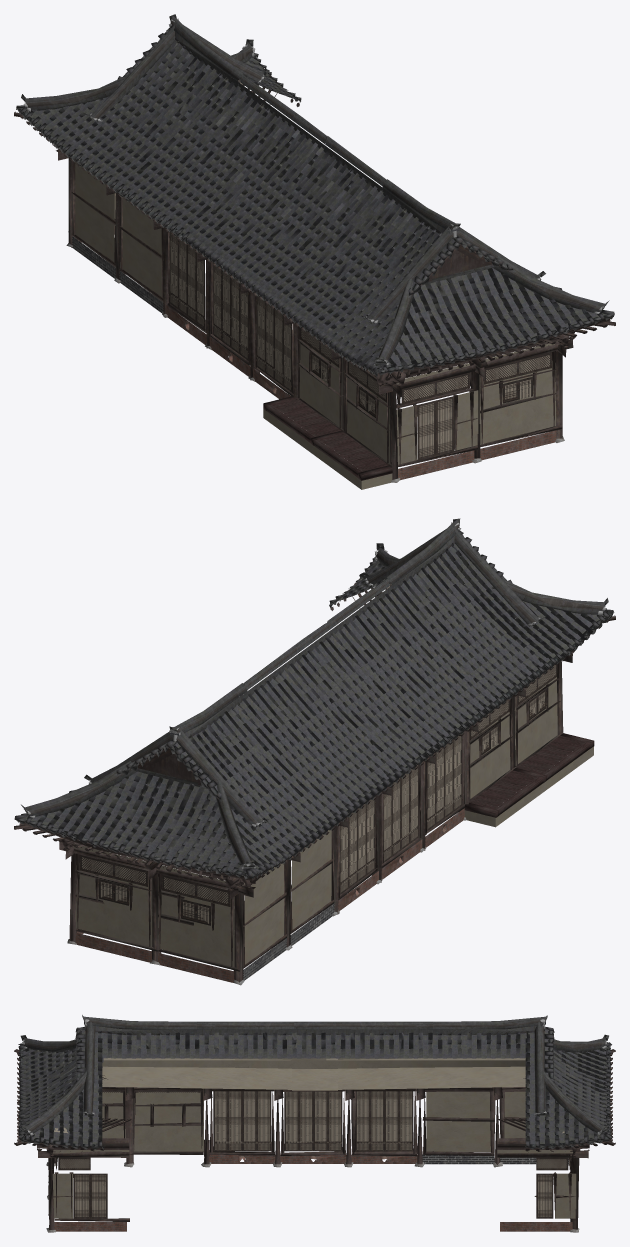
File: TruongHocLow2.fbx
The picture shows the model from 3 angles, top to bottom: view 1: azimuth 30°, elevation 25°; view 2: azimuth 150°, elevation 25°; view 3: azimuth 270°, elevation 25°; orthographic projection. The views are drawn at different scales.
Parts seen in each view (by area): view 1: Folk_Education_Hall; view 2: Folk_Education_Hall; view 3: Folk_Education_Hall.
Boxes of the visible parts, x1,y1,x2,y2 form: Folk_Education_Hall: (14, 14, 615, 489); Folk_Education_Hall: (14, 518, 615, 985); Folk_Education_Hall: (14, 1015, 615, 1232).
Bounding box in the file's own units: 1000 × 892 × 2660.
